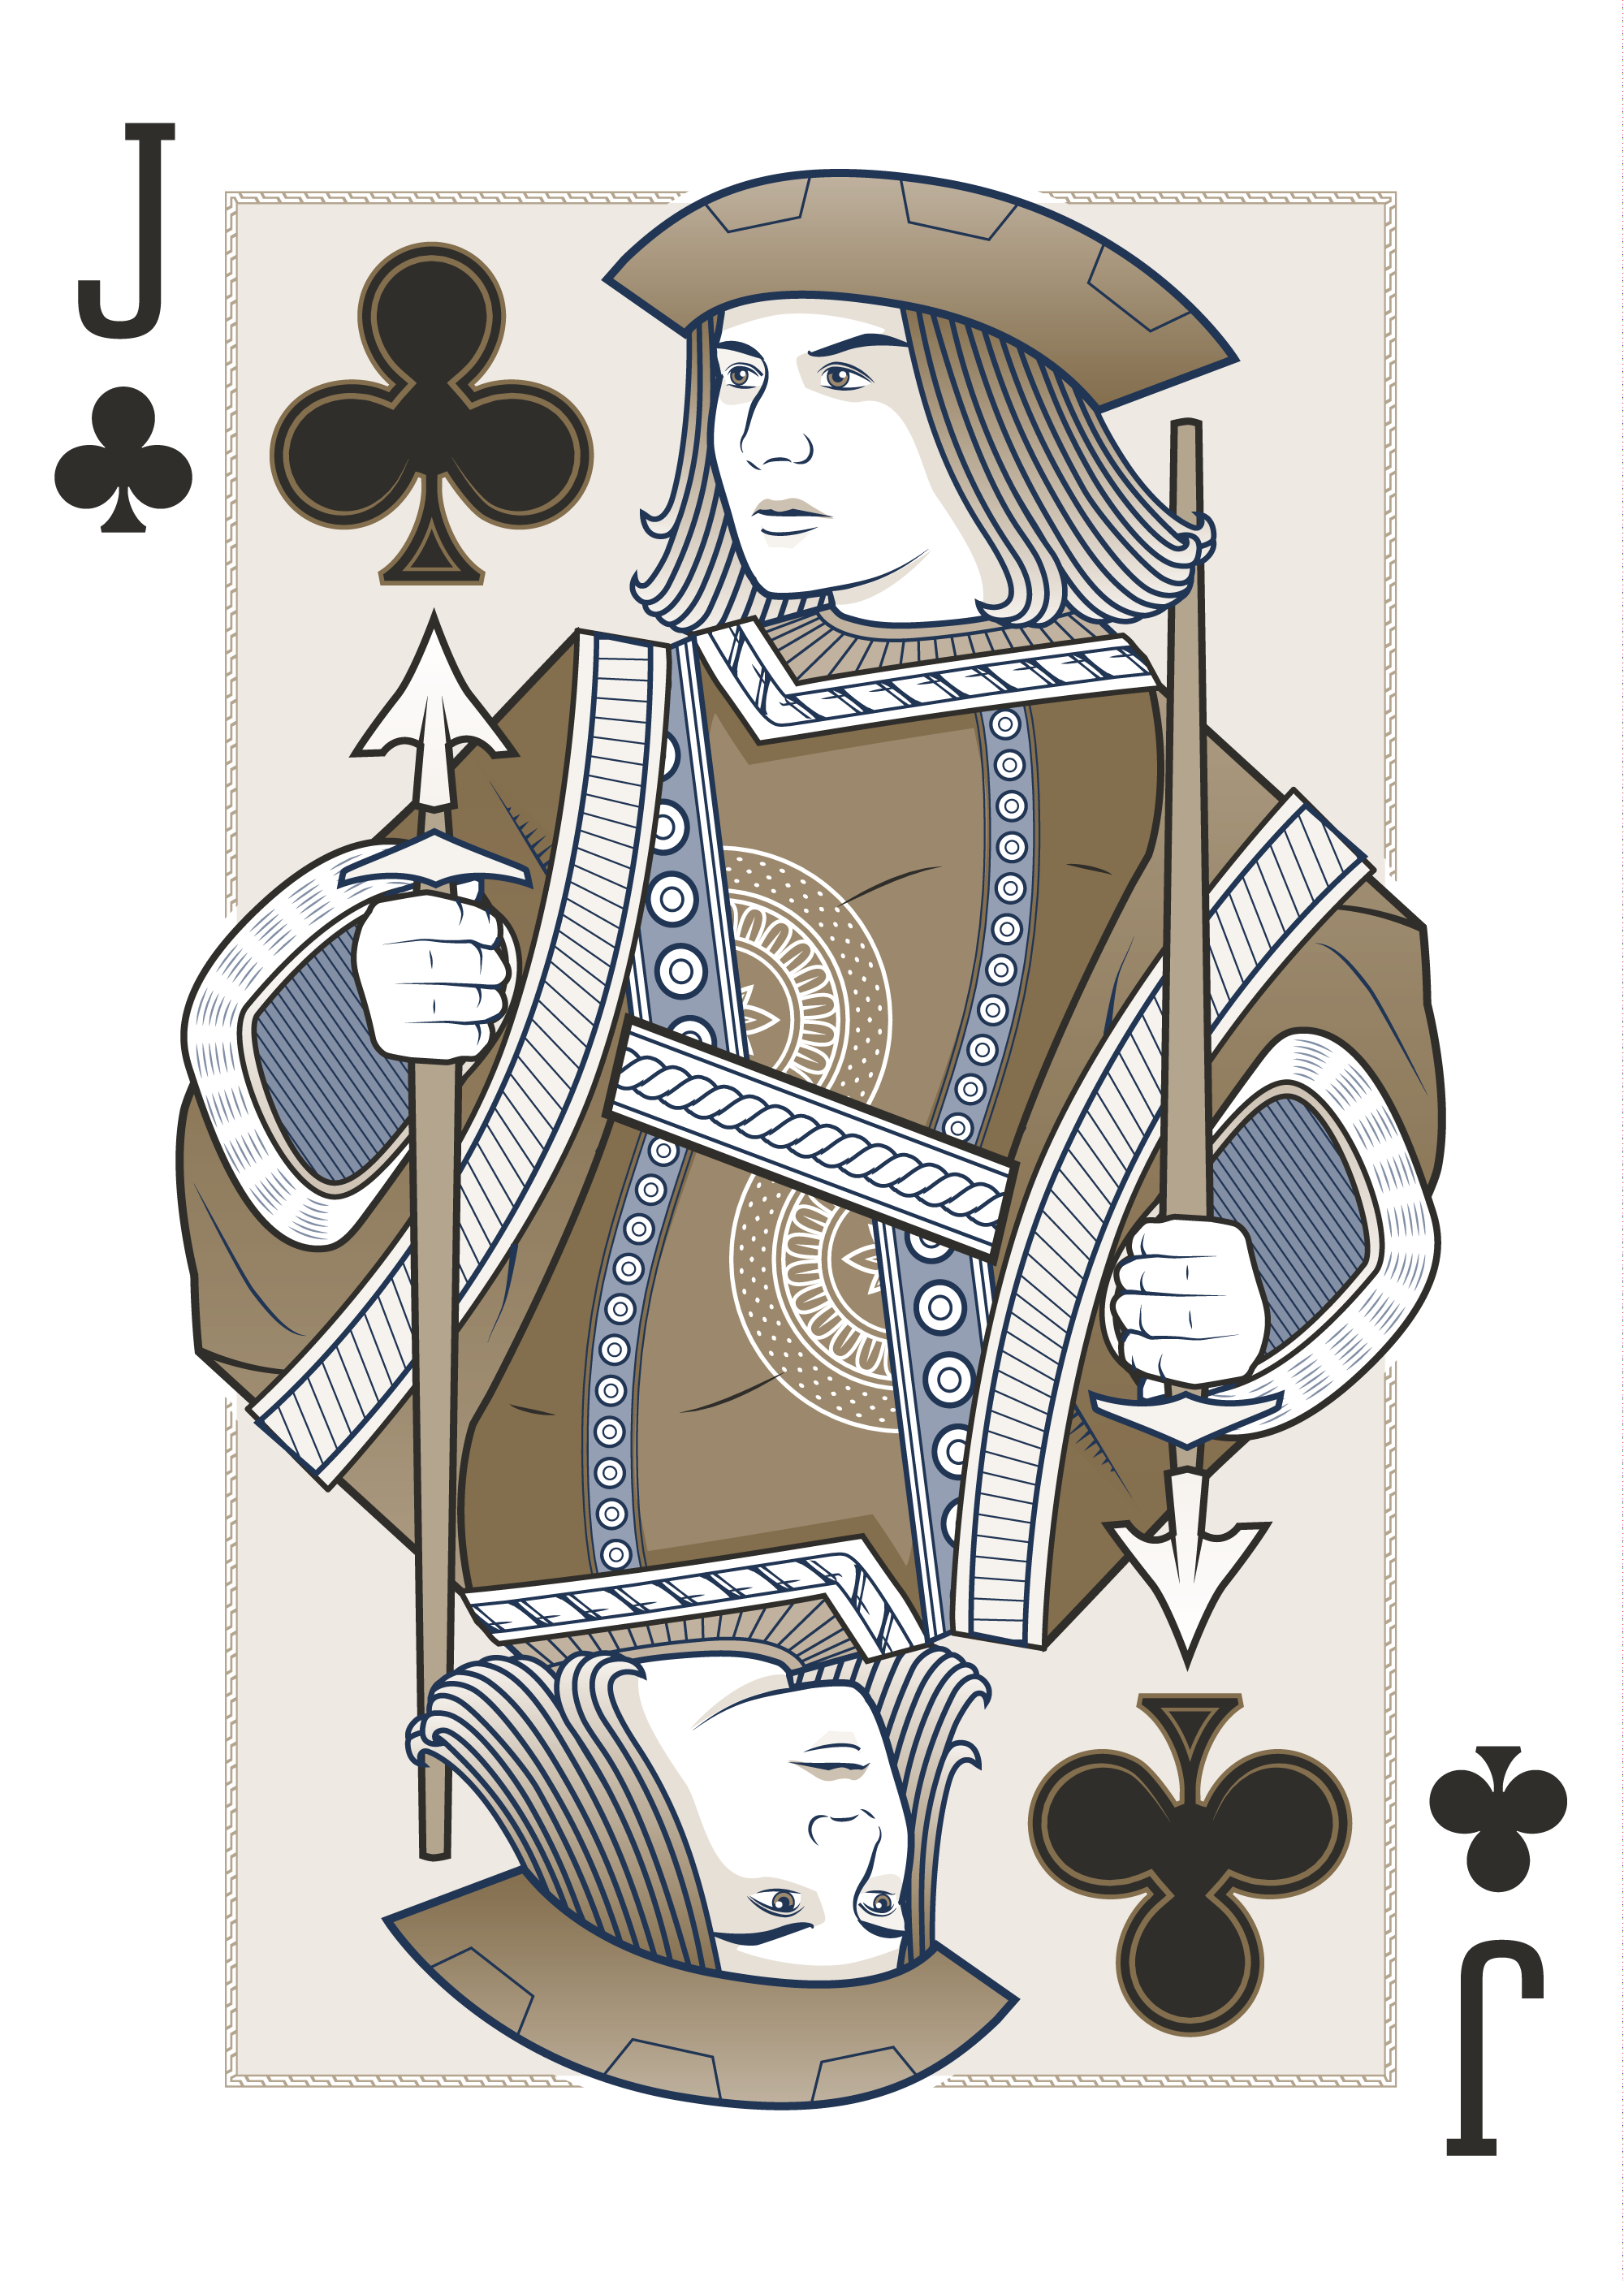jack of clubs: (24, 15, 1610, 2272)
